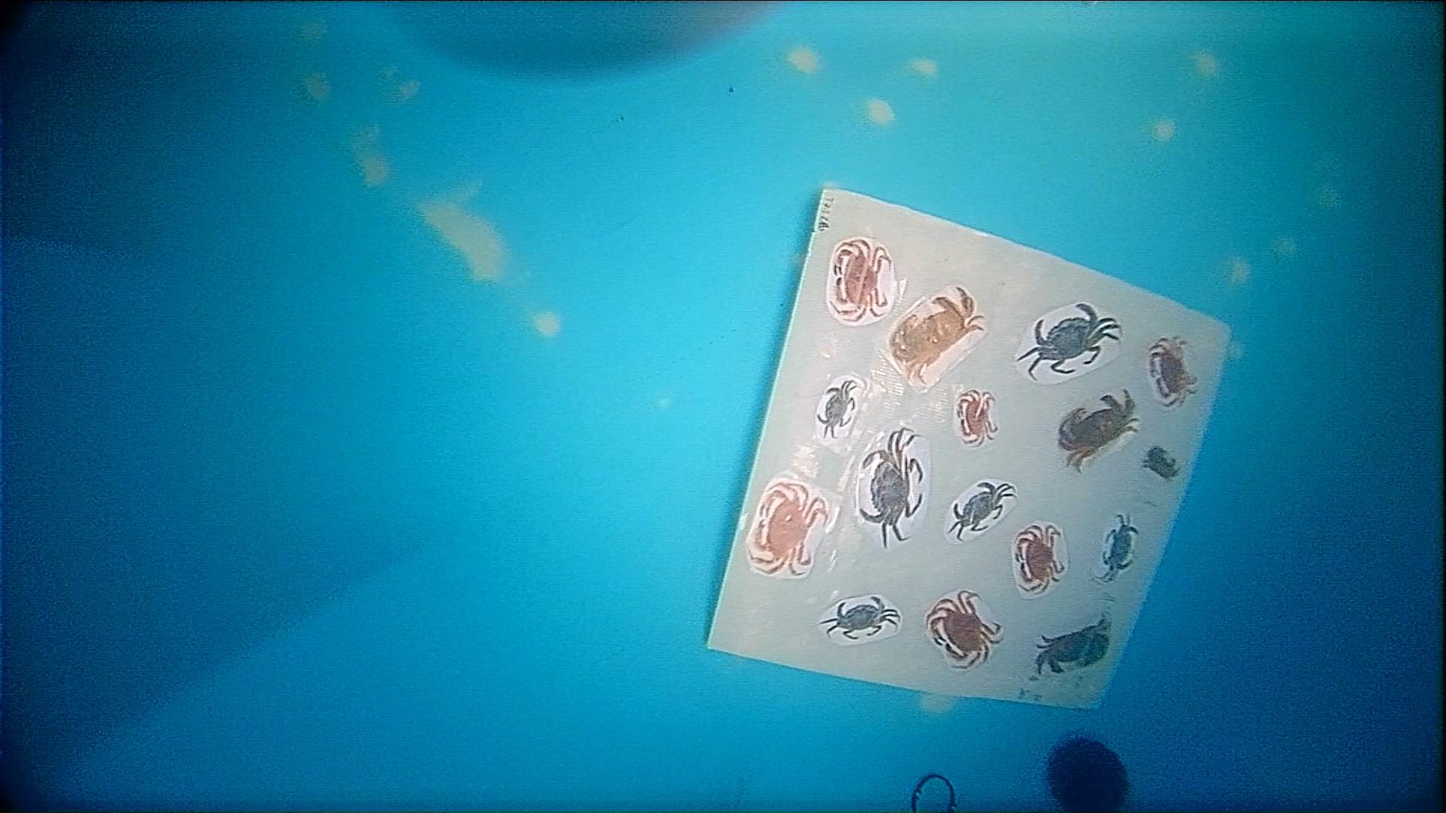GreenCrab: (1016, 303, 1120, 378), (861, 428, 923, 548), (950, 483, 1013, 540), (820, 596, 900, 639), (1100, 515, 1138, 580)
